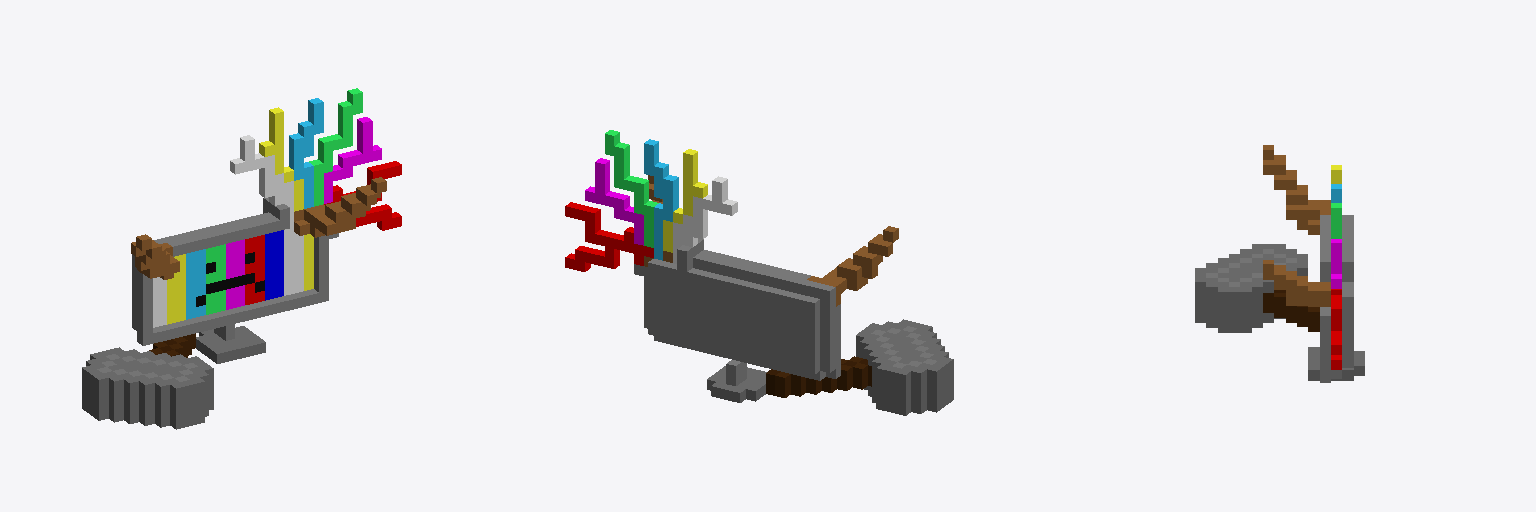
3 renders of one model, left to right at view 1: azimuth 30°, elevation 25°; view 2: azimuth 150°, elevation 25°; view 3: azimuth 270°, elevation 25°, orthographic.
Parts seen in each view (by area): view 1: object 1; view 2: object 1; view 3: object 1.
Part boxes in pixels (left/top/right/bottom): object 1: left=82, top=88, right=401, bottom=429; object 1: left=565, top=130, right=953, bottom=415; object 1: left=1195, top=145, right=1364, bottom=382.
Bounding box in the file's own units: 3.5 × 2.2 × 1.5.
1 materials, 1 textured.